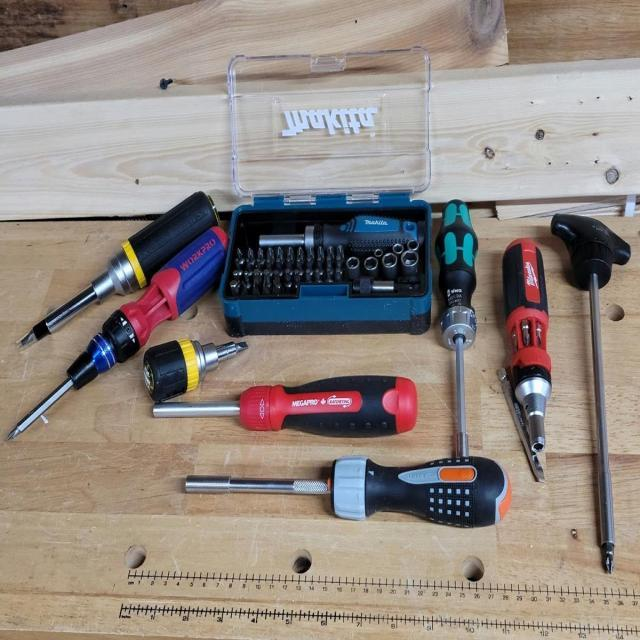screwdriver: (7, 222, 235, 444), (15, 186, 224, 350)
